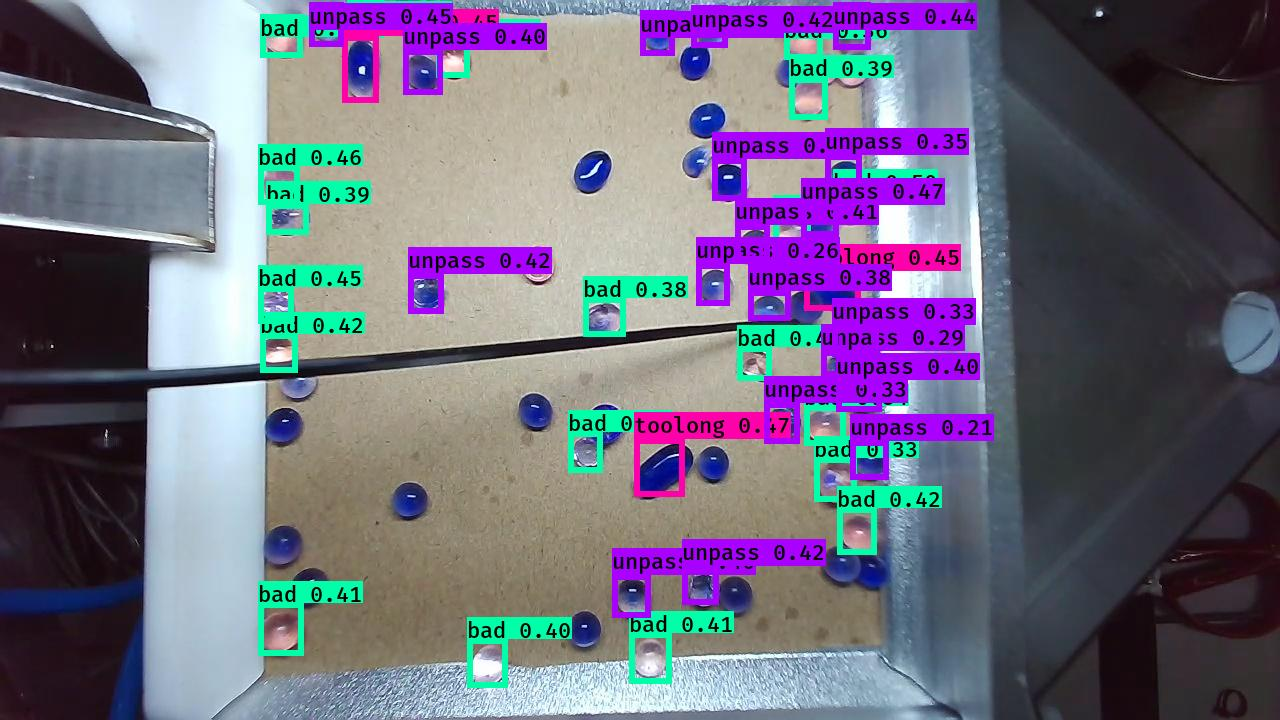bad: (254, 611, 307, 655), (259, 16, 305, 60), (782, 16, 825, 63), (818, 457, 859, 505), (583, 297, 628, 340), (630, 637, 671, 680), (468, 644, 508, 688), (734, 344, 775, 385), (806, 405, 848, 445), (794, 77, 830, 122), (519, 246, 559, 285), (345, 1, 384, 40), (837, 511, 875, 551), (836, 49, 876, 86), (269, 205, 313, 238), (260, 168, 299, 205), (258, 288, 295, 326), (773, 218, 812, 254), (570, 435, 604, 473), (436, 43, 472, 78), (832, 194, 872, 224), (806, 52, 840, 85), (260, 334, 295, 364)
defact: (681, 145, 715, 182)
pass: (567, 147, 615, 197), (582, 401, 626, 445), (261, 526, 304, 569), (818, 542, 863, 582), (263, 408, 306, 449), (287, 568, 330, 609), (515, 391, 554, 435), (389, 482, 430, 523), (716, 573, 754, 616), (695, 443, 731, 486), (687, 100, 726, 139), (566, 609, 604, 649), (853, 556, 895, 592), (787, 289, 823, 329), (678, 42, 710, 82)
toolong: (633, 441, 697, 498), (806, 272, 861, 317), (343, 39, 381, 103)
unpass: (830, 4, 874, 53), (611, 576, 655, 619), (798, 204, 844, 245), (408, 273, 448, 319), (640, 13, 677, 57), (308, 6, 346, 46), (403, 55, 440, 95), (822, 159, 864, 194), (685, 568, 721, 607), (712, 164, 748, 203), (765, 405, 805, 440), (690, 9, 727, 46), (697, 269, 735, 305), (845, 323, 883, 358), (852, 443, 888, 479), (845, 382, 881, 418), (737, 227, 770, 265), (827, 350, 861, 384), (777, 54, 808, 88), (751, 294, 787, 323)
